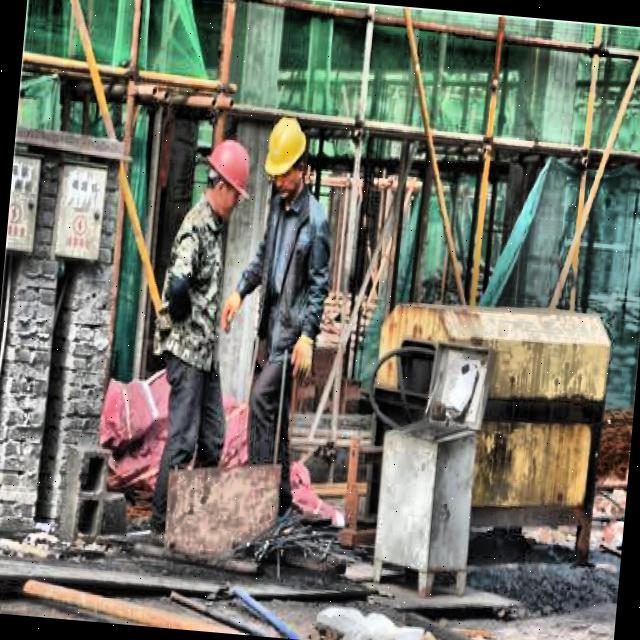helmet: (196, 133, 254, 218), (258, 112, 314, 200)
